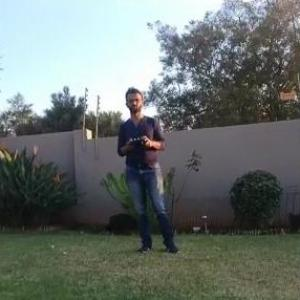follow: (115, 83, 188, 257)
